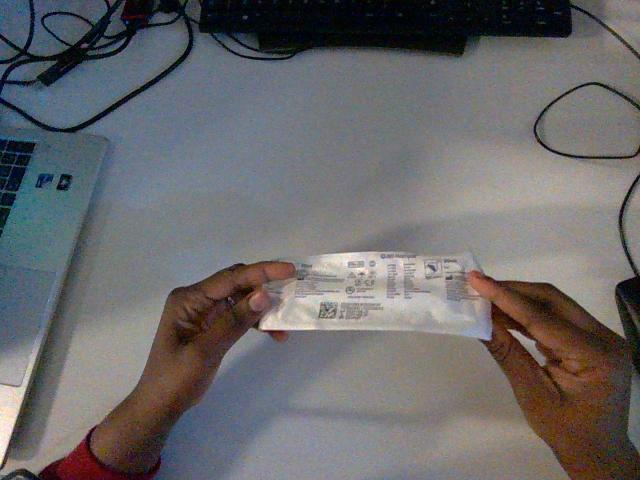syringe: (259, 252, 491, 339)
